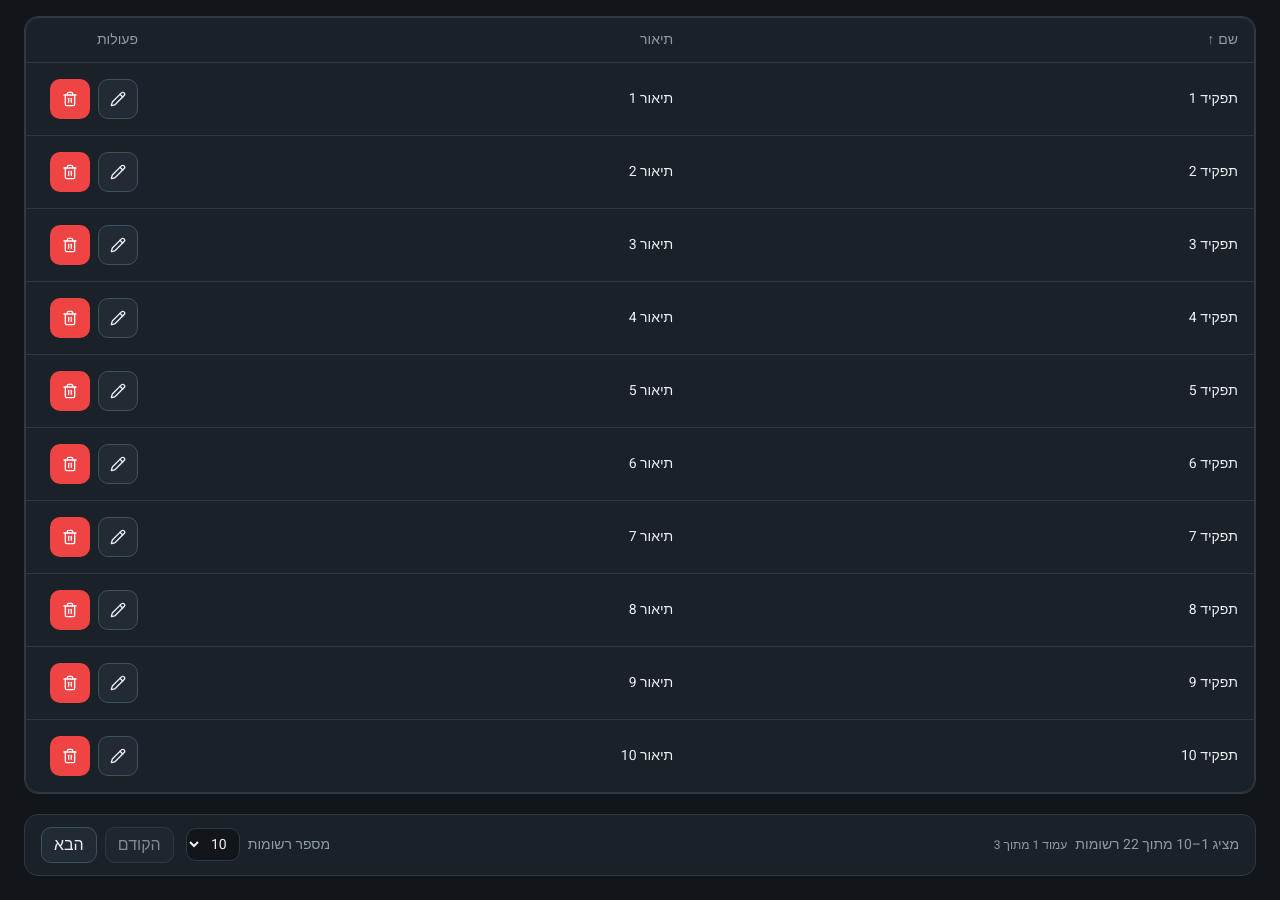
Test: RolesPage › moves to the next page and shows the next slice of roles
(page scrolled)
Click the button "הבא". click: (69, 844)
box: left=41, top=826, right=97, bottom=862
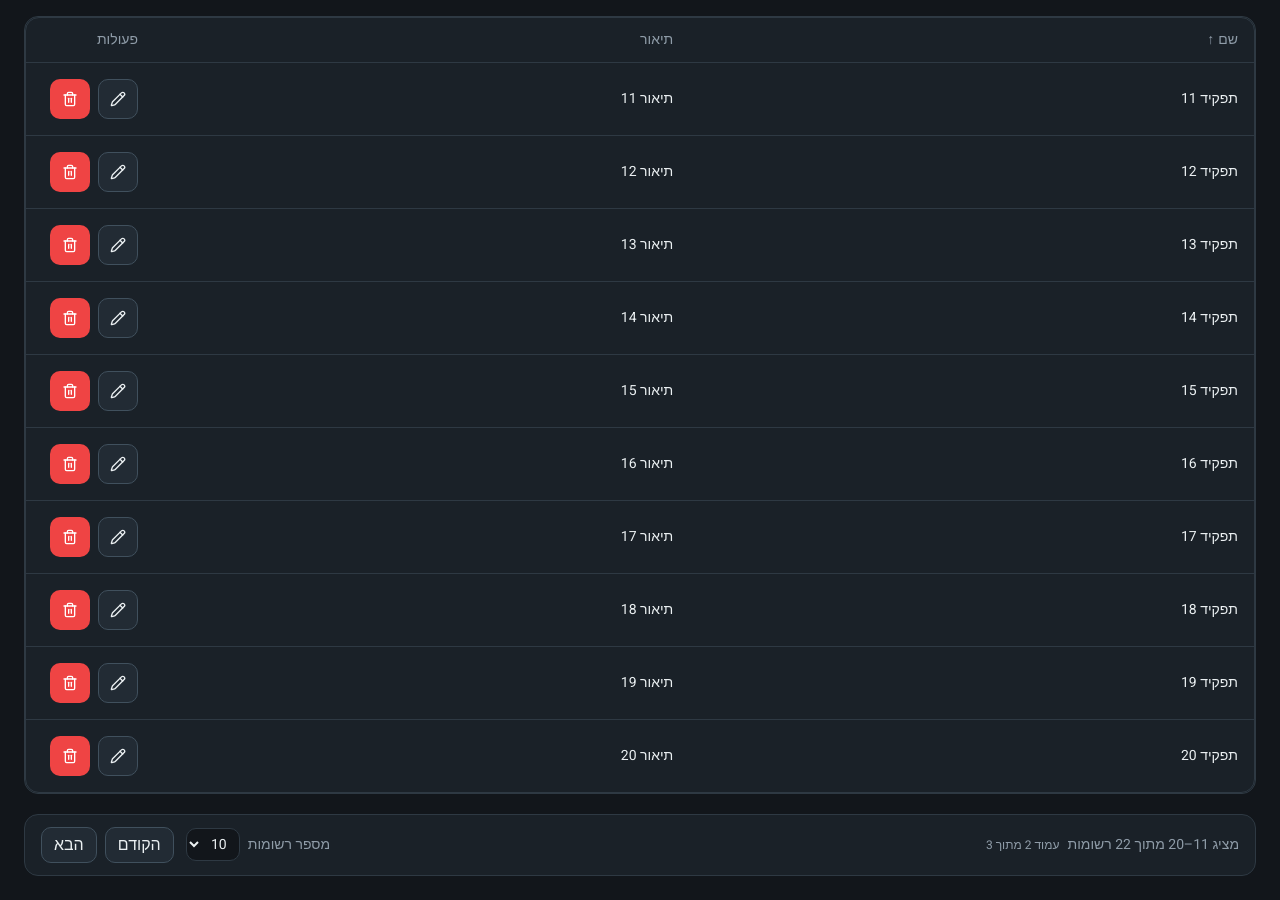
Check: the text "תפקיד 11" is shown, box left=689, top=62, right=1254, bottom=135
